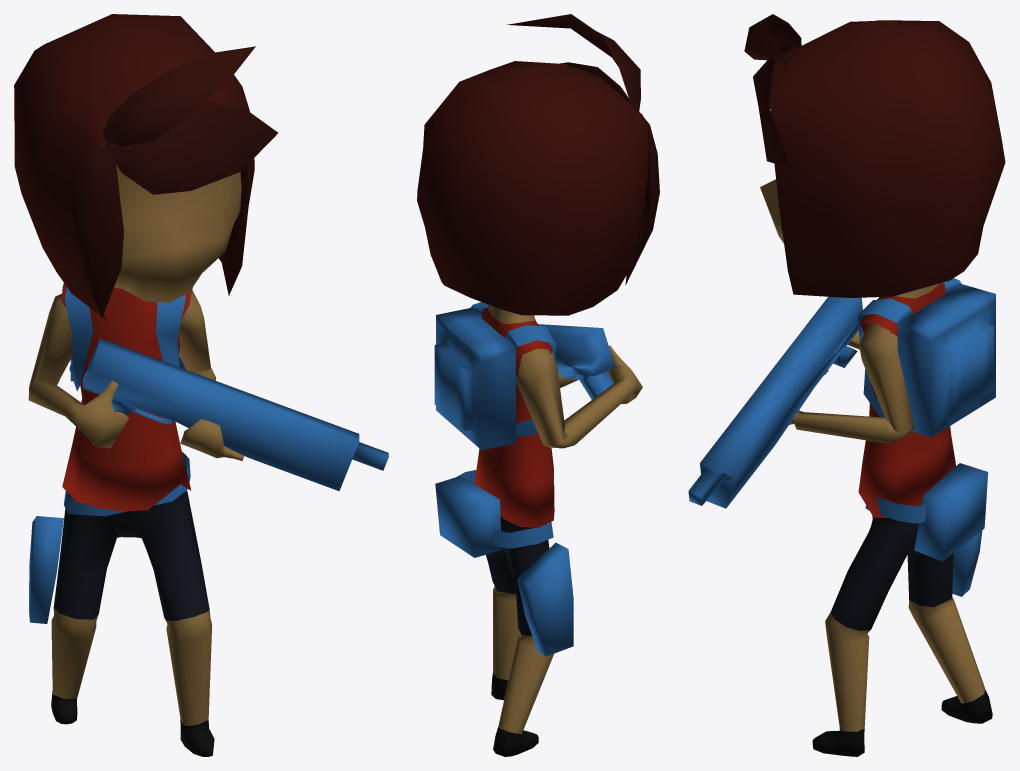
The model's file is low poly girl.obj.
3 views of the same model, side by side, from view 1: azimuth 30°, elevation 25°; view 2: azimuth 150°, elevation 25°; view 3: azimuth 270°, elevation 25° (orthographic). The views are drawn at different scales.
Parts seen in each view (by area): view 1: Cube.010, Plane.001, Cube.008, Cube.006, Cube.011, Cube.007; view 2: Cube.010, Cube.006, Cube.007, Cube.011, Plane.001, Cube.008; view 3: Cube.010, Cube.006, Cube.008, Cube.007, Plane.001, Cube.011.
Boxes of the visible parts, x1=… form: Cube.010: x1=14, y1=14, x2=254, y2=756; Plane.001: x1=71, y1=46, x2=277, y2=318; Cube.008: x1=82, y1=338, x2=388, y2=490; Cube.006: x1=64, y1=287, x2=185, y2=391; Cube.011: x1=29, y1=516, x2=63, y2=623; Cube.007: x1=64, y1=452, x2=190, y2=516; Cube.010: x1=417, y1=61, x2=648, y2=756; Cube.006: x1=434, y1=302, x2=556, y2=450; Cube.007: x1=435, y1=470, x2=553, y2=557; Cube.011: x1=517, y1=542, x2=573, y2=656; Plane.001: x1=507, y1=14, x2=659, y2=285; Cube.008: x1=538, y1=324, x2=618, y2=399; Cube.010: x1=760, y1=20, x2=1005, y2=756; Cube.006: x1=857, y1=278, x2=995, y2=437; Cube.008: x1=688, y1=296, x2=862, y2=508; Cube.007: x1=865, y1=463, x2=988, y2=561; Plane.001: x1=744, y1=14, x2=801, y2=167; Cube.011: x1=952, y1=530, x2=982, y2=596.
Size of the model in its own units: 5.32 by 13.84 by 5.55.
